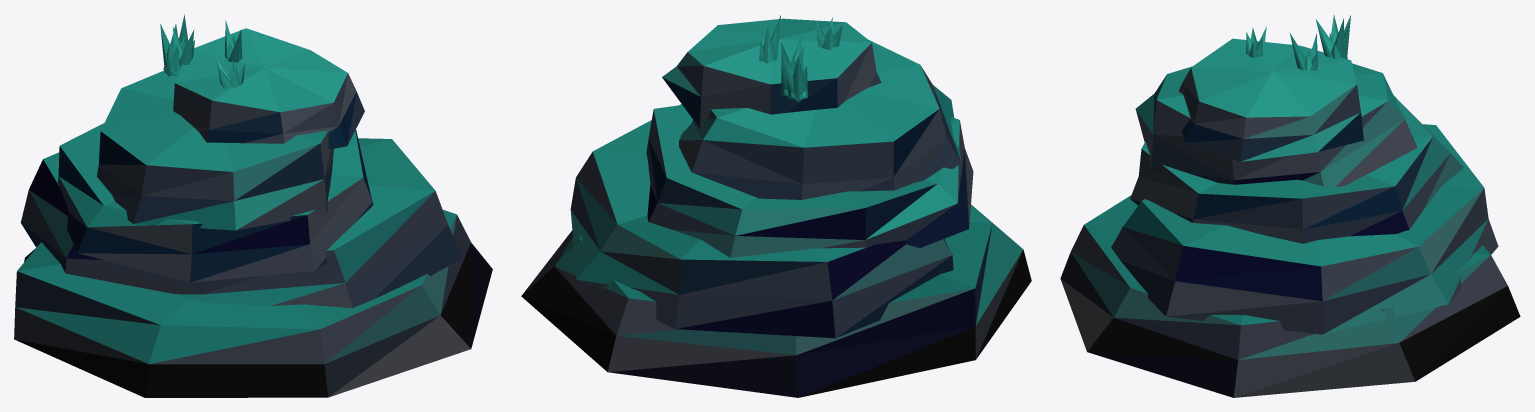
The model's file is batu_slate_basalt_856698.glb.
3 views of the same model, side by side, from view 1: azimuth 30°, elevation 25°; view 2: azimuth 150°, elevation 25°; view 3: azimuth 270°, elevation 25° (orthographic). The views are drawn at different scales.
Visible parts, largest first — view 1: Batu_Pipih_Bertumpuk; view 2: Batu_Pipih_Bertumpuk; view 3: Batu_Pipih_Bertumpuk.
Boxes of the visible parts, bbox=[...] form: Batu_Pipih_Bertumpuk: bbox=[14, 14, 492, 397]; Batu_Pipih_Bertumpuk: bbox=[521, 15, 1031, 397]; Batu_Pipih_Bertumpuk: bbox=[1060, 15, 1520, 397].
Size of the model in its own units: 5.08 by 3.09 by 4.9.
